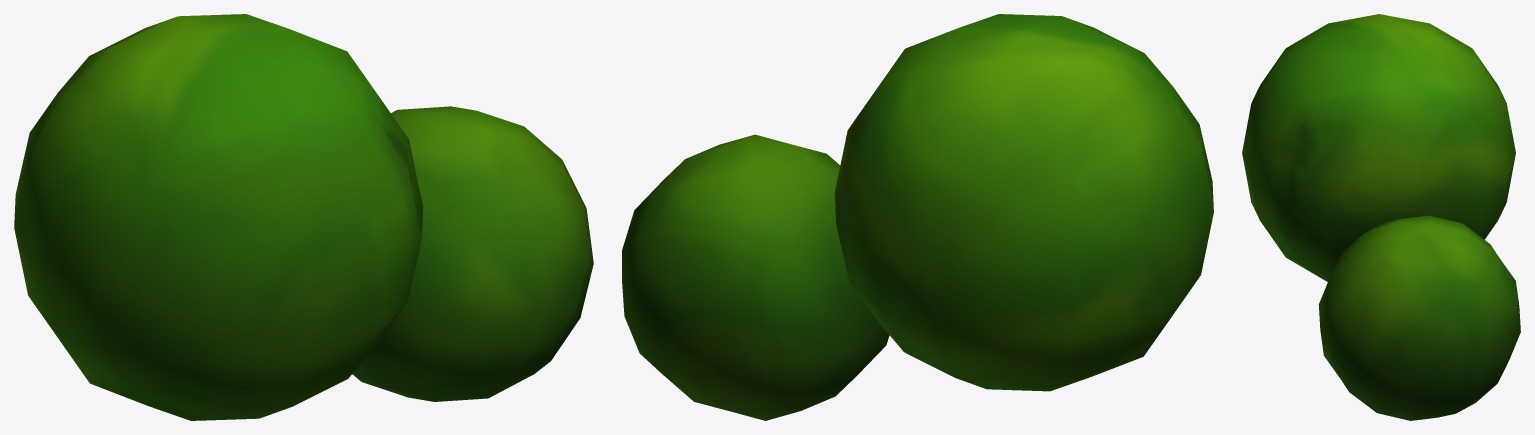
The model's file is TortoiseRescue_Ground_Deco_Bush03.glb.
The picture shows the model from 3 angles, left to right: view 1: azimuth 30°, elevation 25°; view 2: azimuth 150°, elevation 25°; view 3: azimuth 270°, elevation 25°; orthographic projection. The views are drawn at different scales.
Parts seen in each view (by area): view 1: TortoiseRescue_Ground_Deco_Bush03; view 2: TortoiseRescue_Ground_Deco_Bush03; view 3: TortoiseRescue_Ground_Deco_Bush03.
Part boxes in pixels (bbox=[...]): TortoiseRescue_Ground_Deco_Bush03: bbox=[14, 14, 593, 420]; TortoiseRescue_Ground_Deco_Bush03: bbox=[622, 14, 1213, 420]; TortoiseRescue_Ground_Deco_Bush03: bbox=[1242, 14, 1520, 420].
Size of the model in its own units: 1.62 by 1.22 by 1.03.
1 material, 1 textured.
